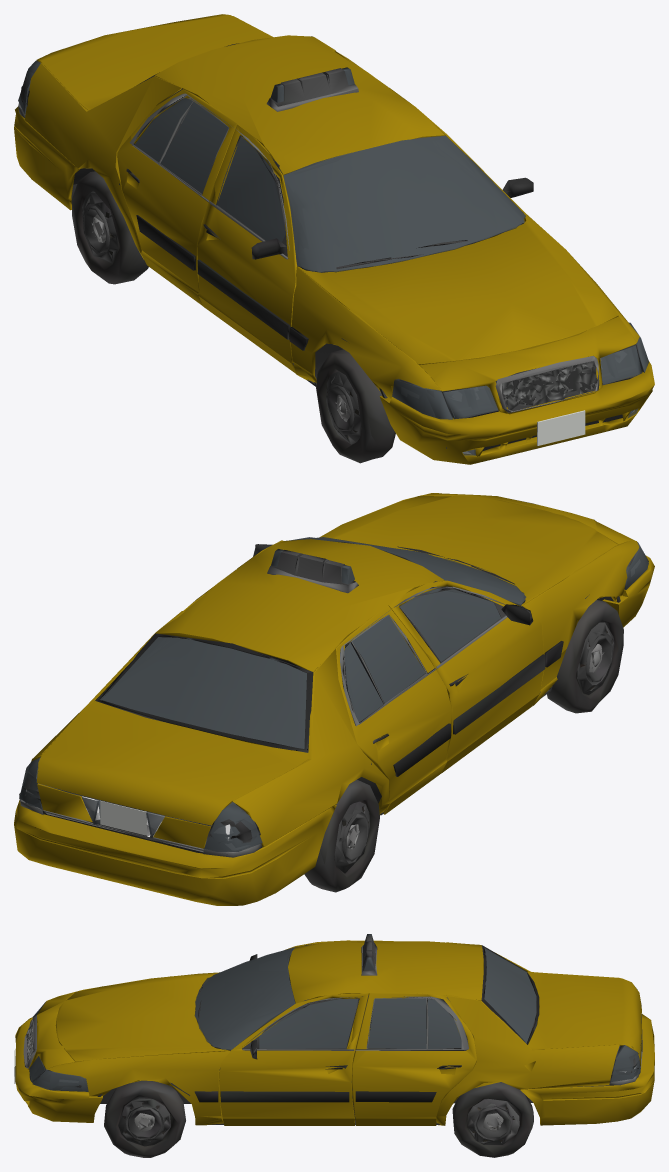
3 views of the same model, one above another, from view 1: azimuth 30°, elevation 25°; view 2: azimuth 150°, elevation 25°; view 3: azimuth 270°, elevation 25° (orthographic). The views are drawn at different scales.
Visible parts, largest first — view 1: body, glass, wheel_FL, wheel_RL; view 2: body, glass, wheel_FL, wheel_RL; view 3: body, glass, wheel_FR, wheel_RR.
Boxes of the visible parts, x1,y1,x2,y2 form: body: [14, 14, 654, 464]; glass: [18, 60, 648, 455]; wheel_FL: [316, 349, 395, 463]; wheel_RL: [71, 171, 148, 284]; body: [14, 493, 654, 905]; glass: [19, 537, 648, 851]; wheel_FL: [547, 600, 623, 713]; wheel_RL: [304, 779, 379, 892]; body: [14, 936, 654, 1125]; glass: [29, 934, 641, 1091]; wheel_FR: [104, 1080, 185, 1157]; wheel_RR: [452, 1082, 533, 1157].
Size of the model in its own units: 1.92 by 1.57 by 5.37.
